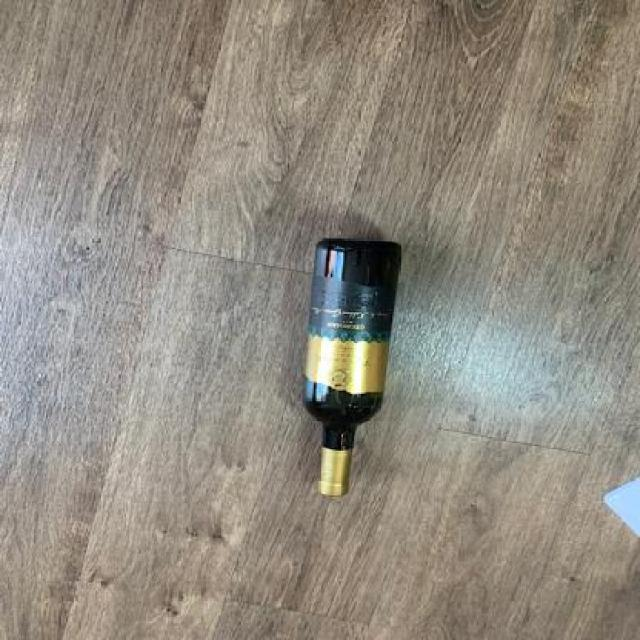trash: (302, 238, 403, 502)
